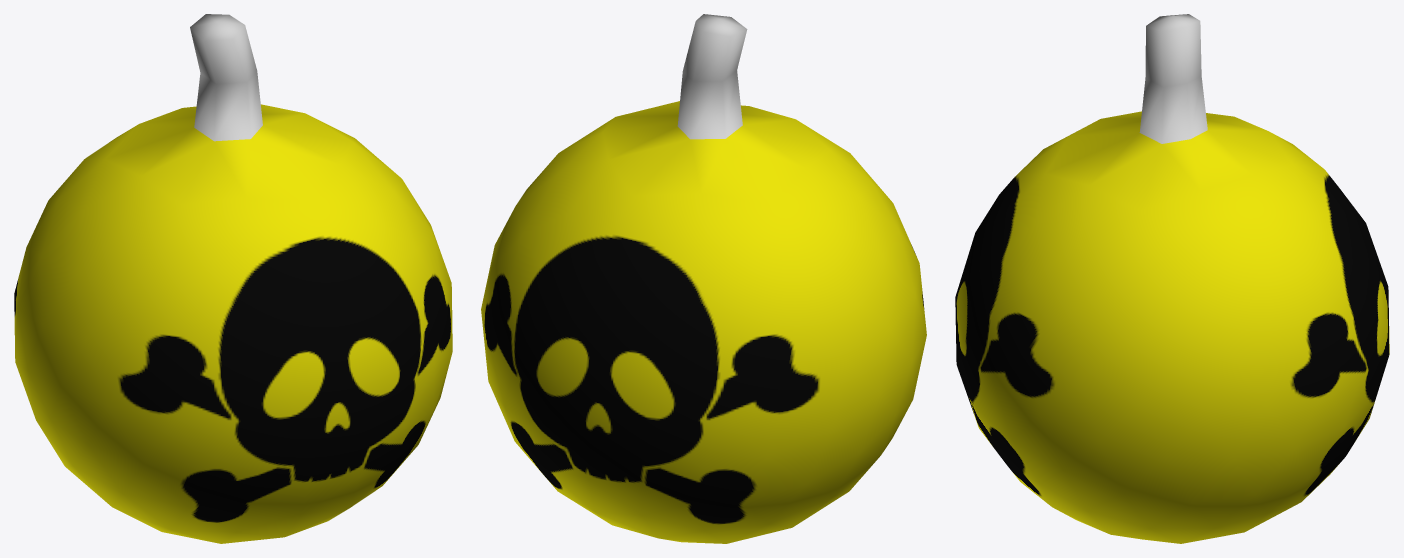
File: zuta bombaXXX.fbx
3 views of the same model, side by side, from view 1: azimuth 30°, elevation 25°; view 2: azimuth 150°, elevation 25°; view 3: azimuth 270°, elevation 25° (orthographic).
Visible parts, largest first — view 1: bomba; view 2: bomba; view 3: bomba.
Part boxes in pixels (x1,y1,x2,y2): bomba: (14, 14, 452, 543); bomba: (481, 14, 926, 543); bomba: (955, 14, 1389, 543).
Bounding box in the file's own units: 95.35 × 121 × 95.52.
2 materials, 1 textured.
